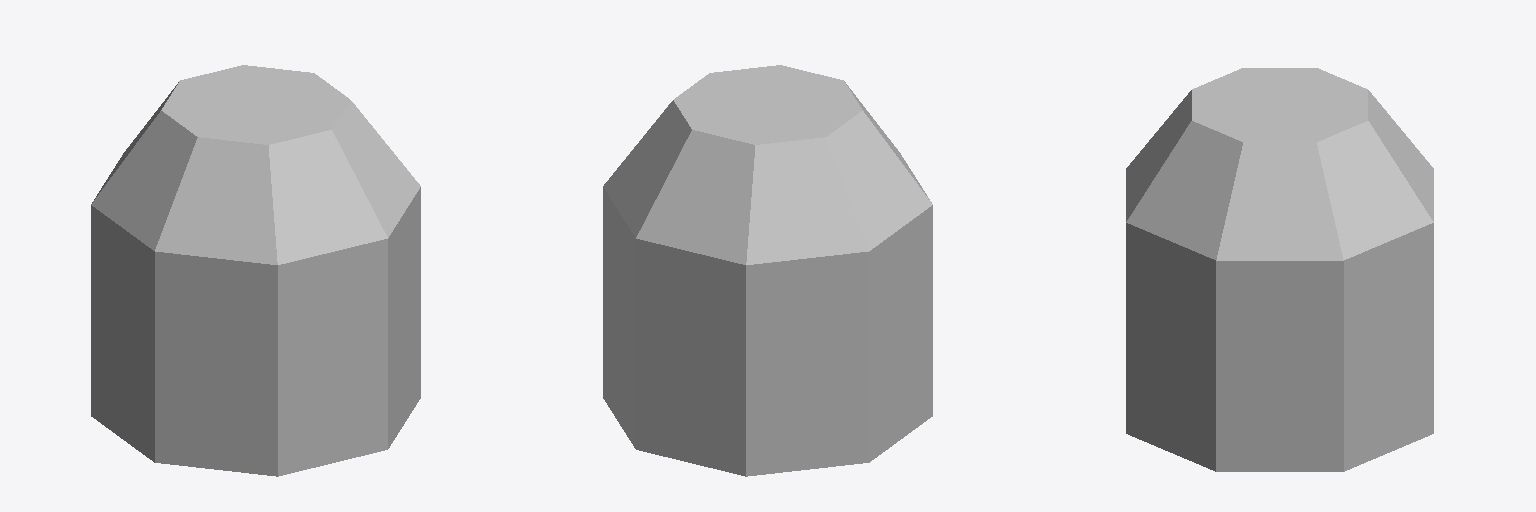
File: pcity_nodes_concrete_pillar_bottom_2.obj
3 renders of one model, left to right at view 1: azimuth 30°, elevation 25°; view 2: azimuth 150°, elevation 25°; view 3: azimuth 270°, elevation 25°, orthographic.
Parts seen in each view (by area): view 1: Cylinder; view 2: Cylinder; view 3: Cylinder.
Part boxes in pixels (left/top/right/bottom): Cylinder: left=91, top=65, right=420, bottom=476; Cylinder: left=603, top=65, right=932, bottom=476; Cylinder: left=1126, top=68, right=1433, bottom=471.
Bounding box in the file's own units: 0.9239 × 1 × 0.9239.